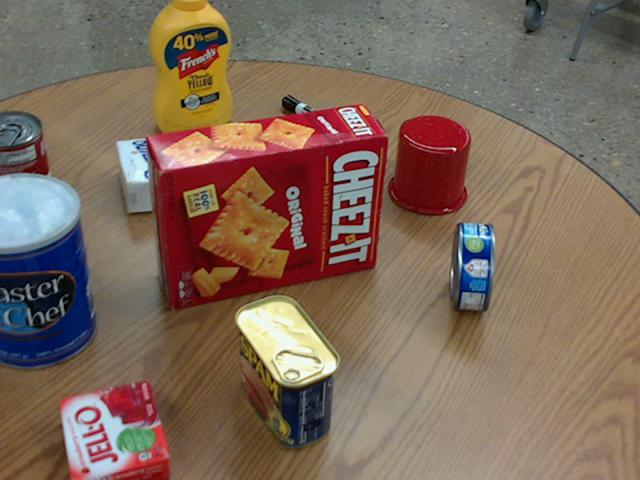cracker_box: (148, 104, 387, 307)
gelatin_box: (58, 379, 167, 479)
large_marker: (282, 94, 354, 143)
master_chef_can: (0, 173, 95, 369)
mug: (386, 115, 469, 215)
mustard_bottle: (150, 0, 231, 133)
potted_meat_can: (233, 294, 337, 447)
sugar_box: (115, 125, 283, 212)
tomato_soup_can: (0, 110, 54, 224)
tuna_fish_can: (449, 222, 494, 310)
